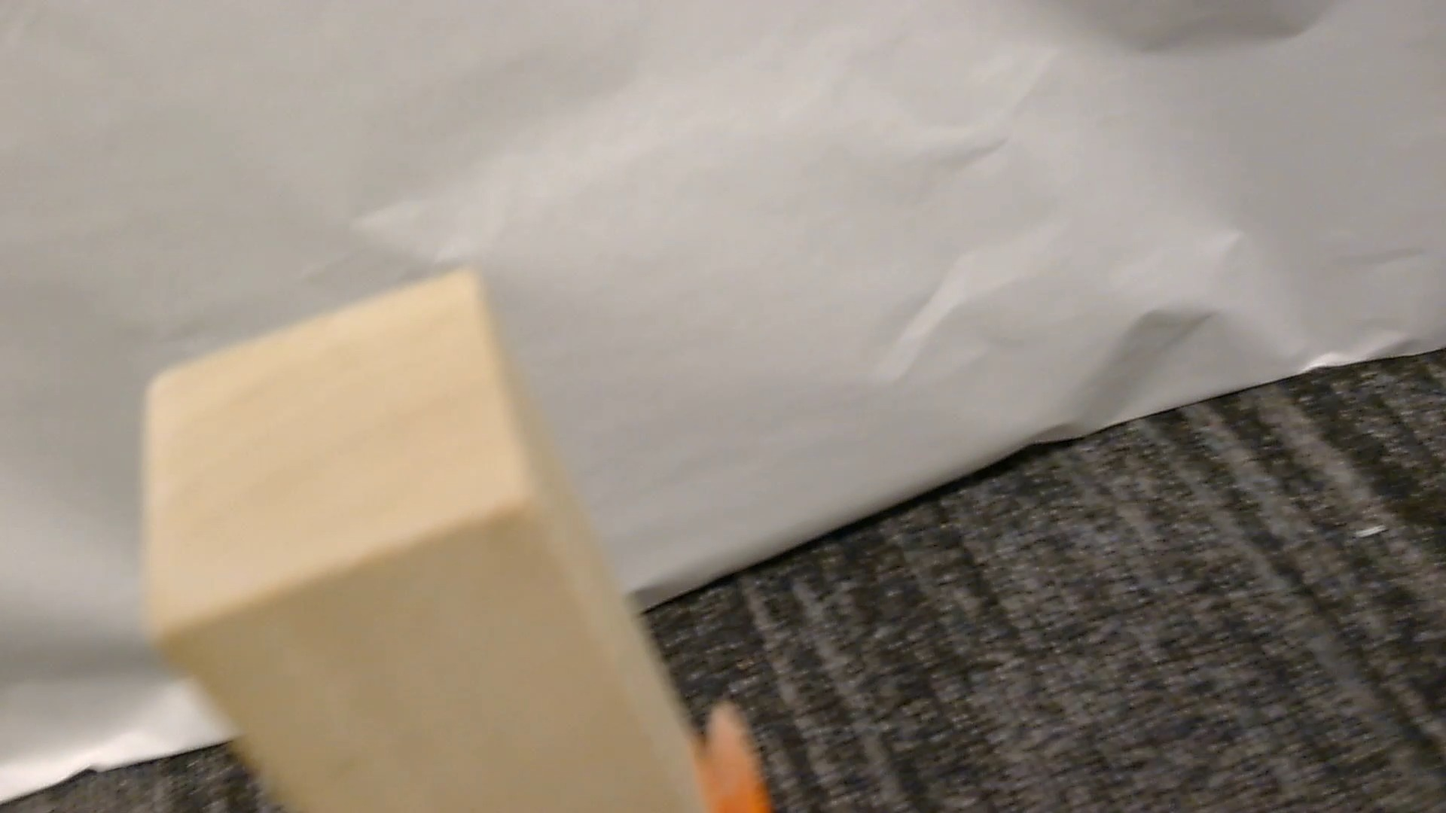Wooden Block: (142, 273, 708, 812)
